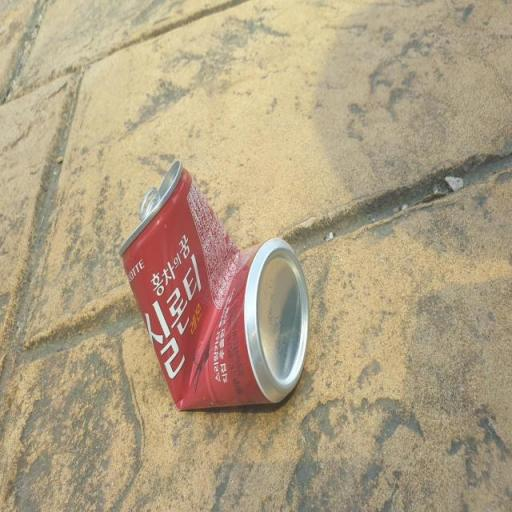metal: (99, 150, 322, 430)
